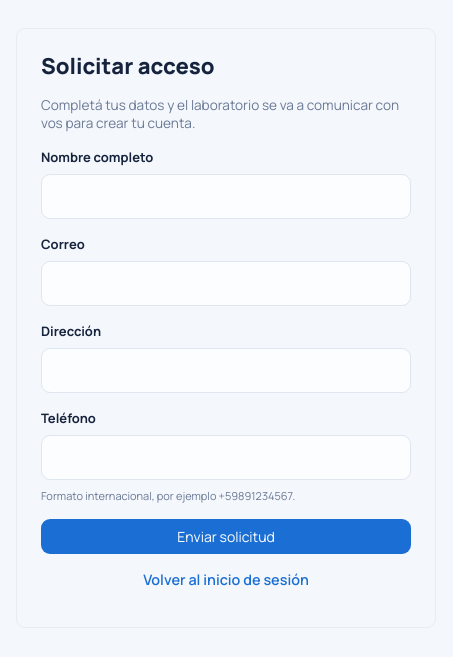
Test case: SolicitarAcceso › un correo ya registrado muestra el error sobre el campo correo
In the field labelled "Nombre completo": (226, 196) top-left (41, 174), bottom-right (411, 219), type "Dr. Juan Pérez"
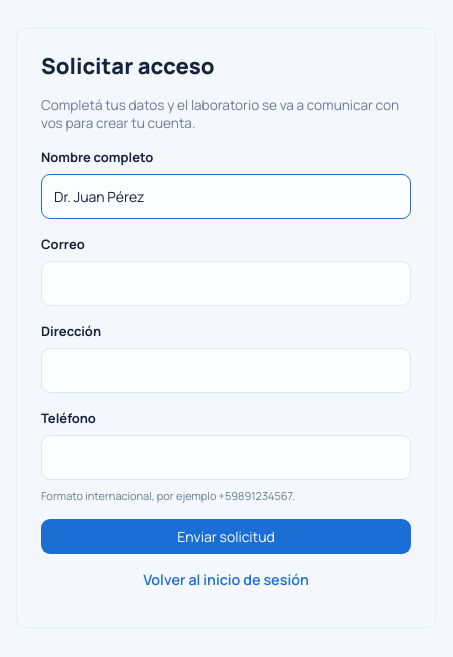
In the field labelled "Correo": (226, 284) top-left (41, 261), bottom-right (411, 306), type "juan@mail.com"
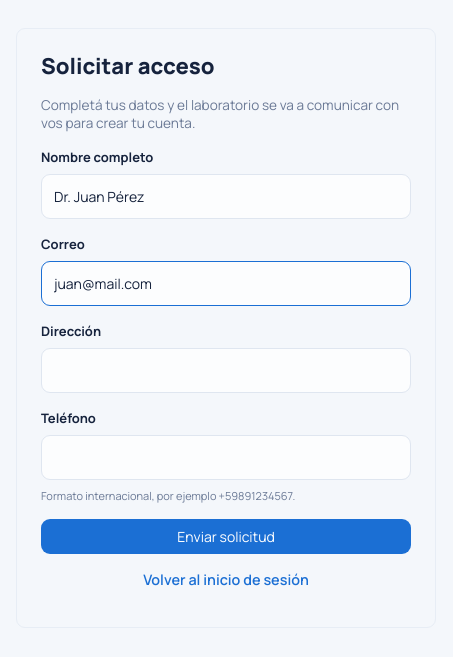
In the field labelled "Dirección": (226, 370) top-left (41, 348), bottom-right (411, 393), type "Av. 18 de Julio 1234"
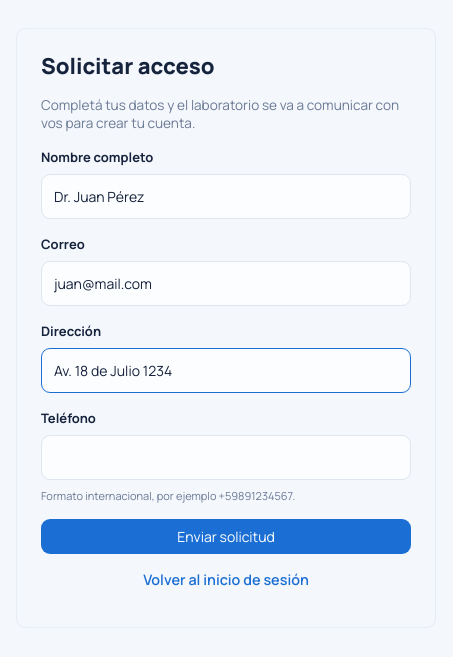
In the field labelled "Teléfono": (226, 458) top-left (41, 435), bottom-right (411, 480), type "+59891234567"
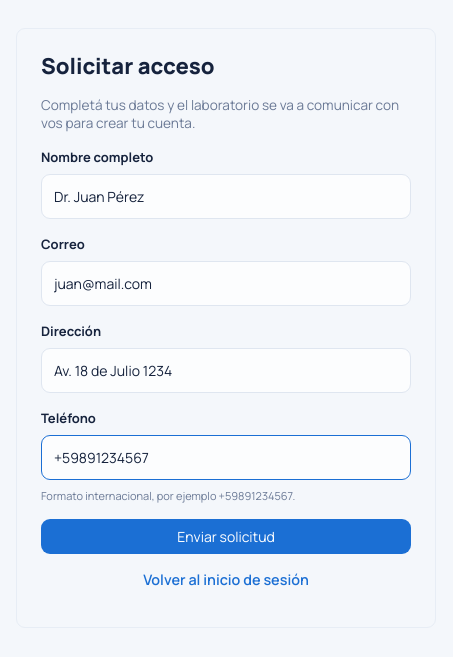
Click the button "Enviar solicitud": (226, 536) top-left (41, 519), bottom-right (411, 554)
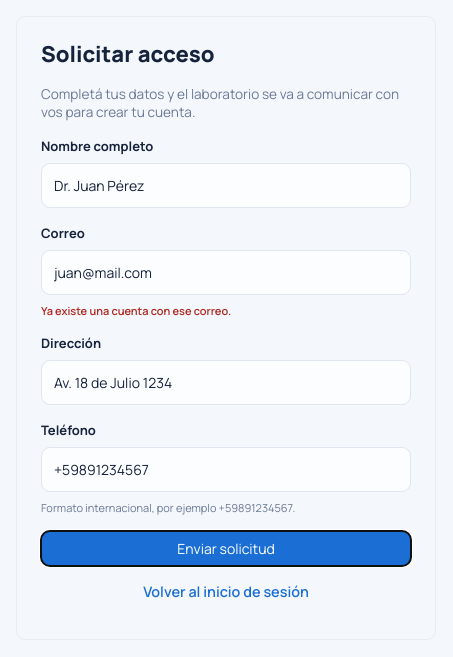
Expected: the text "Ya existe una cuenta con ese correo." is shown, top-left (41, 302), bottom-right (231, 318)
